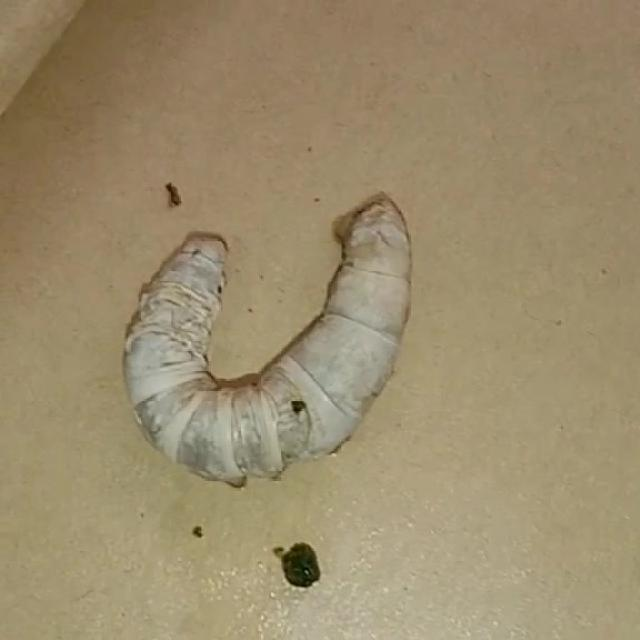Grasserie: (99, 177, 451, 508)
